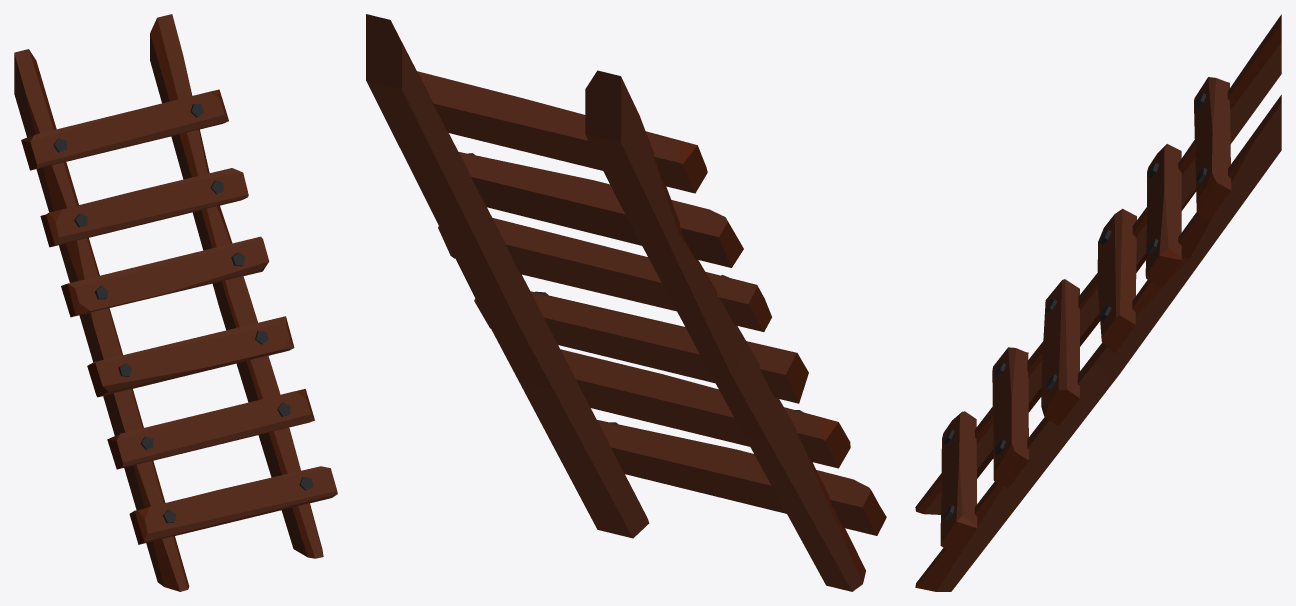
The model's file is Ladder.fbx.
3 views of the same model, side by side, from view 1: azimuth 30°, elevation 25°; view 2: azimuth 150°, elevation 25°; view 3: azimuth 270°, elevation 25° (orthographic). The views are drawn at different scales.
Parts seen in each view (by area): view 1: Ladder; view 2: Ladder; view 3: Ladder.
Boxes of the visible parts, x1=… form: Ladder: x1=14, y1=14, x2=337, y2=591; Ladder: x1=366, y1=14, x2=886, y2=591; Ladder: x1=915, y1=14, x2=1281, y2=591.
Bounding box in the file's own units: 28.41 × 58.7 × 39.84.
